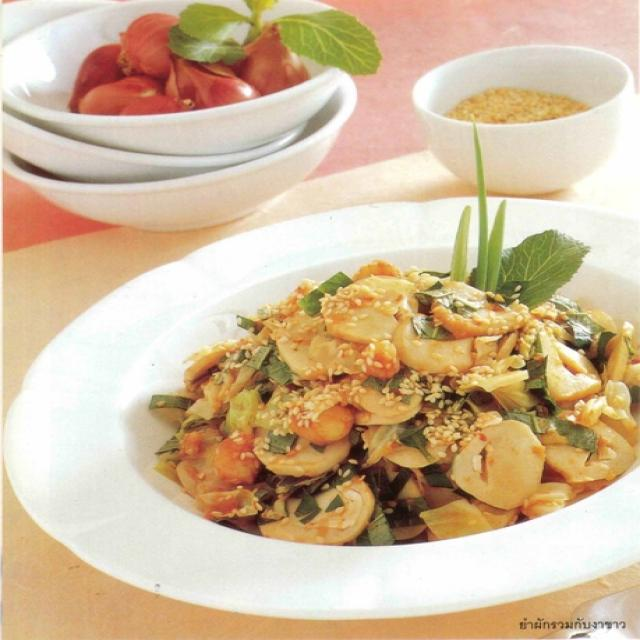蔬菜料理: (24, 202, 636, 605)
